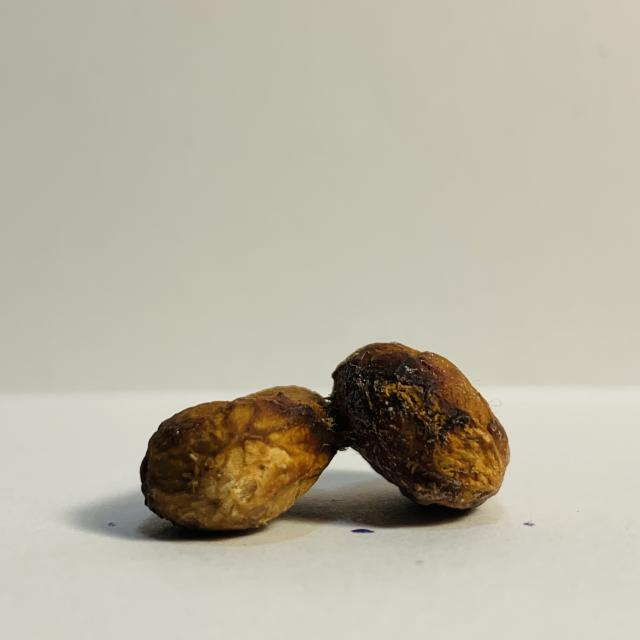Agglomerated_cocoabeans: (62, 341, 578, 550)
